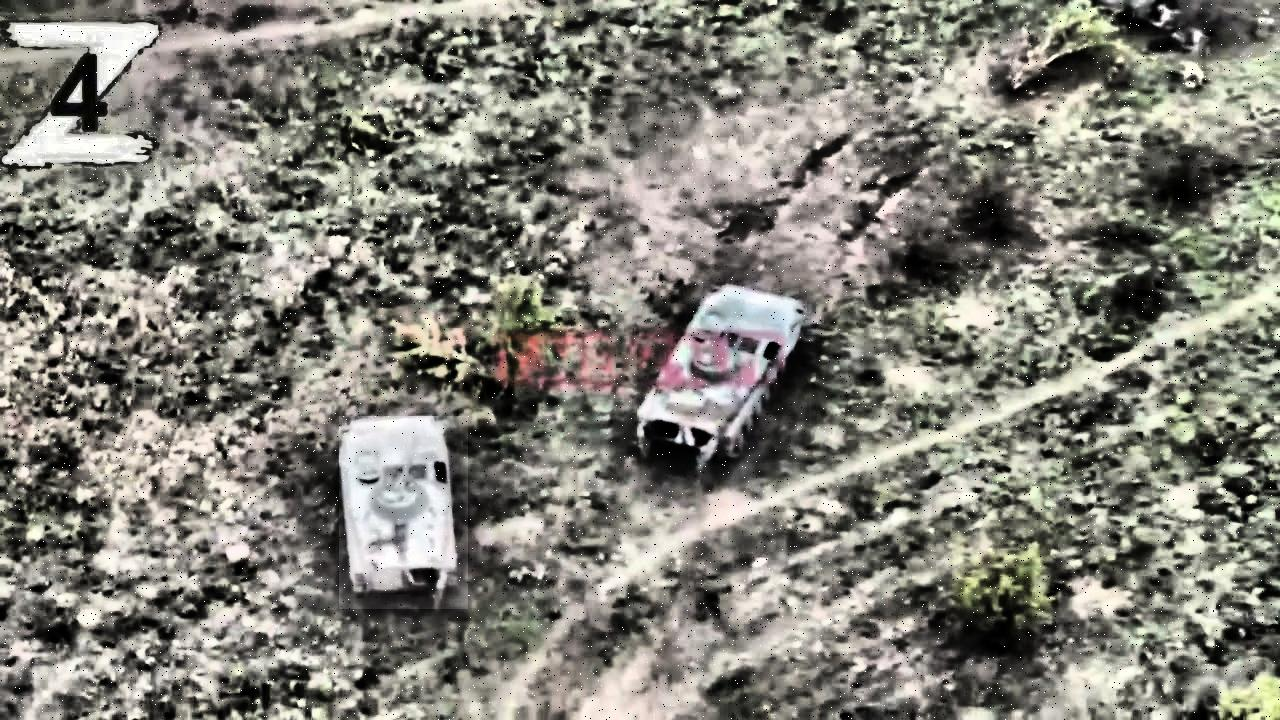military-vehicle: (638, 283, 810, 463), (340, 417, 469, 610)
